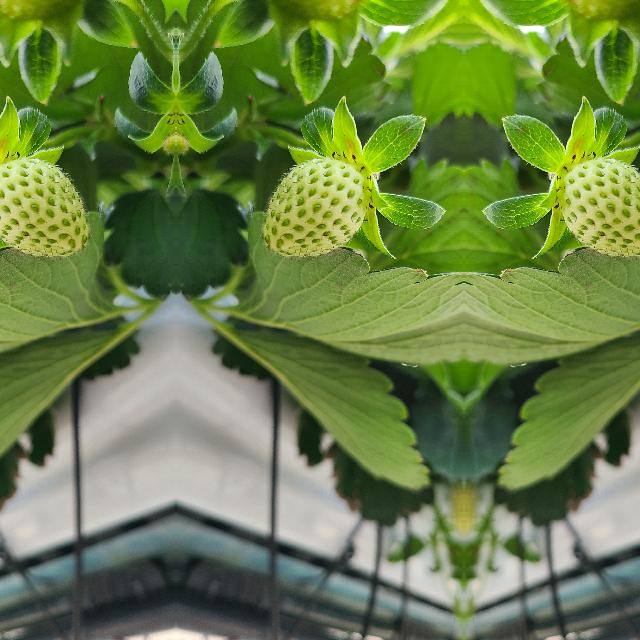Health_25: (260, 158, 368, 256), (0, 158, 90, 256), (557, 158, 640, 256)
